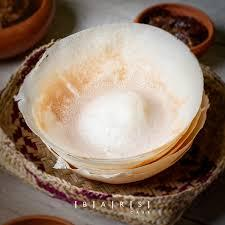Hoppers: (17, 15, 211, 191)
